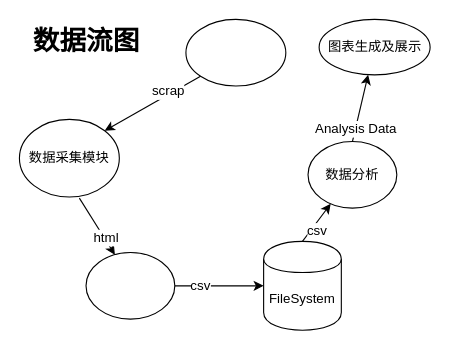
The diagram is 450 pixels wide and 350 high, and some of its shapes have lost their labels. The centre of each missing label's shape, as x and y in pixels:
"中国排球协会服务器" belongs at (235,52).
"数据清洗模块" belongs at (130,285).
